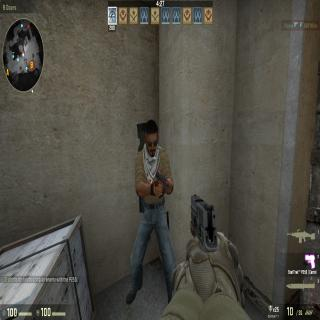T-Body: (130, 117, 178, 304)
T-Head: (142, 119, 160, 159)
